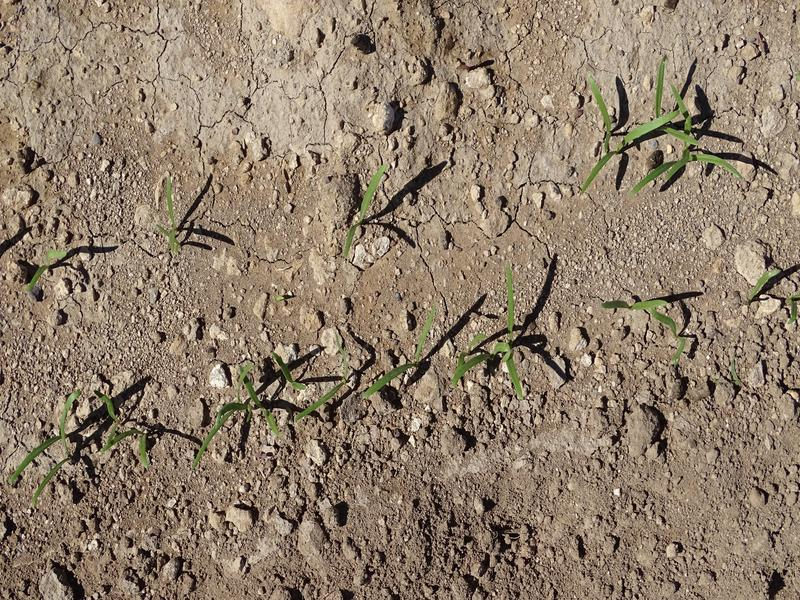Espinaca: (581, 78, 745, 194), (197, 358, 297, 457), (454, 261, 523, 399), (366, 303, 447, 397), (19, 394, 83, 500), (339, 162, 393, 263), (96, 389, 165, 466), (305, 340, 354, 422), (150, 173, 190, 258), (630, 297, 685, 336), (21, 247, 69, 291)
